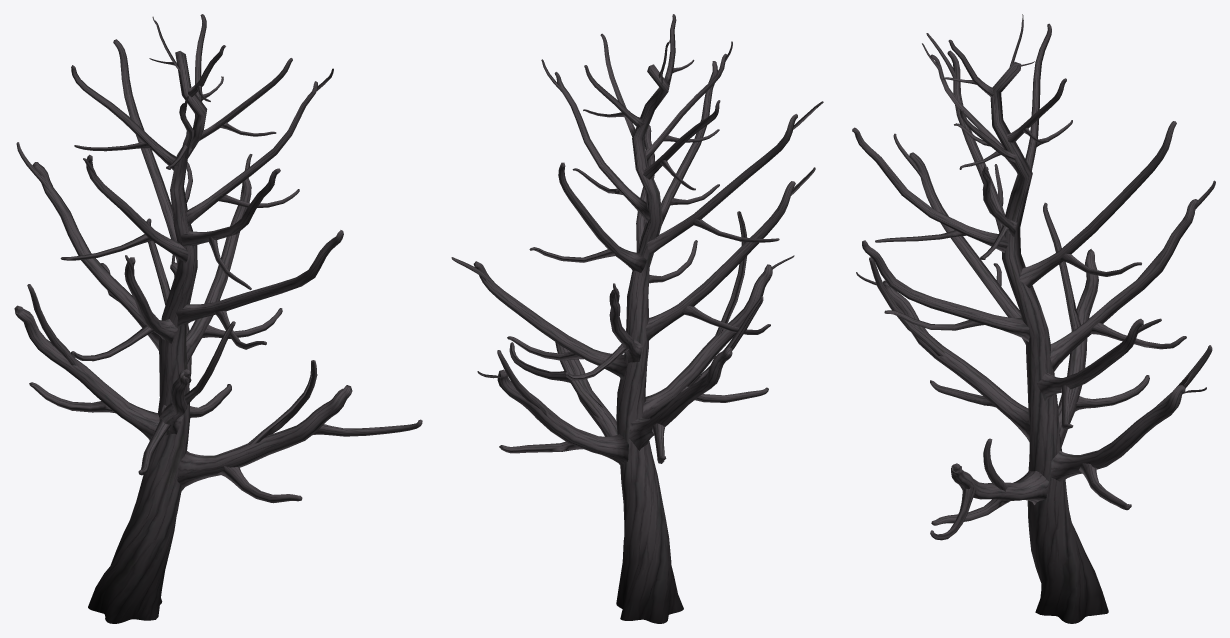
The model's file is DeadTree_2.glb.
3 views of the same model, side by side, from view 1: azimuth 30°, elevation 25°; view 2: azimuth 150°, elevation 25°; view 3: azimuth 270°, elevation 25° (orthographic). The views are drawn at different scales.
Parts seen in each view (by area): view 1: DeadTree_2; view 2: DeadTree_2; view 3: DeadTree_2.
Boxes of the visible parts, bbox=[...] form: DeadTree_2: bbox=[14, 14, 422, 623]; DeadTree_2: bbox=[451, 14, 823, 623]; DeadTree_2: bbox=[852, 14, 1215, 623].
Size of the model in its own units: 6.73 by 11.49 by 6.38.
Materials: 1 (1 with a texture image).
